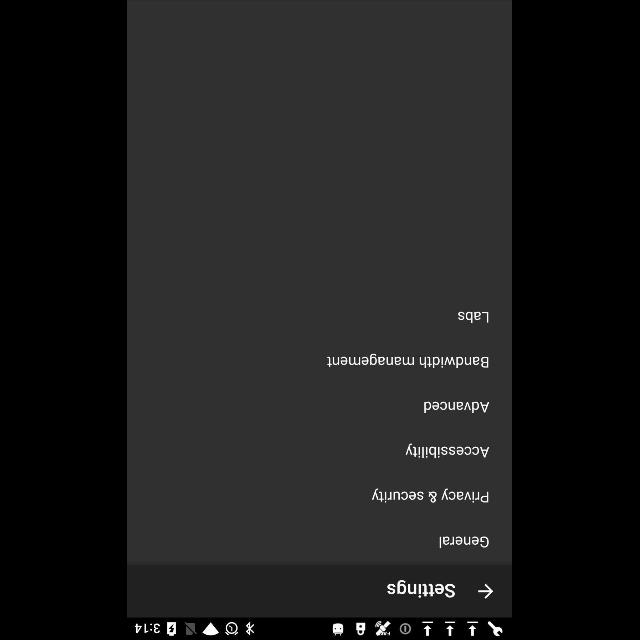icon: (478, 584, 494, 598)
text: (328, 354, 488, 368), (372, 488, 490, 502), (388, 580, 456, 598), (406, 444, 490, 458), (424, 401, 490, 413), (440, 536, 490, 548), (458, 311, 489, 323)
toolbar: (128, 565, 512, 617)
uppertaskbar: (128, 617, 512, 639)
